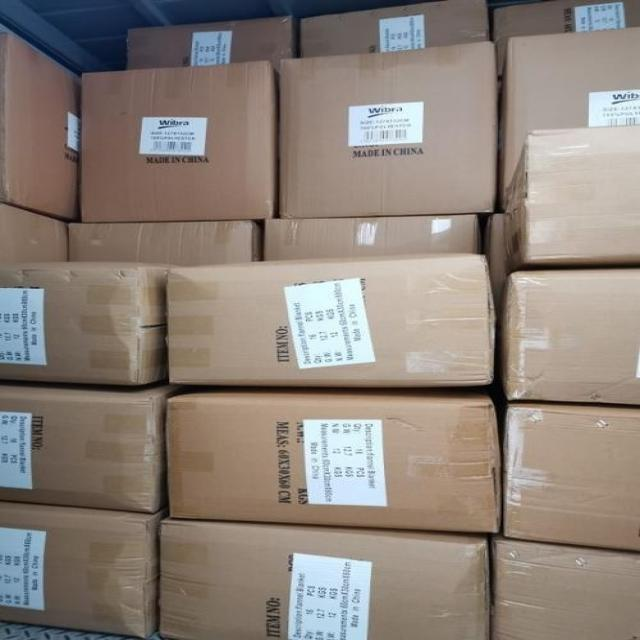box: (163, 390, 500, 534), (166, 251, 497, 390), (157, 518, 489, 640), (278, 41, 499, 217), (79, 60, 278, 222), (499, 27, 640, 191), (0, 501, 165, 640), (0, 382, 177, 511), (502, 403, 640, 553), (503, 126, 640, 274), (0, 263, 165, 385), (497, 268, 640, 405), (490, 538, 640, 640), (0, 24, 77, 222), (298, 0, 493, 57), (262, 214, 481, 261), (128, 15, 297, 68), (67, 220, 259, 266), (493, 0, 640, 40), (0, 203, 66, 266)
